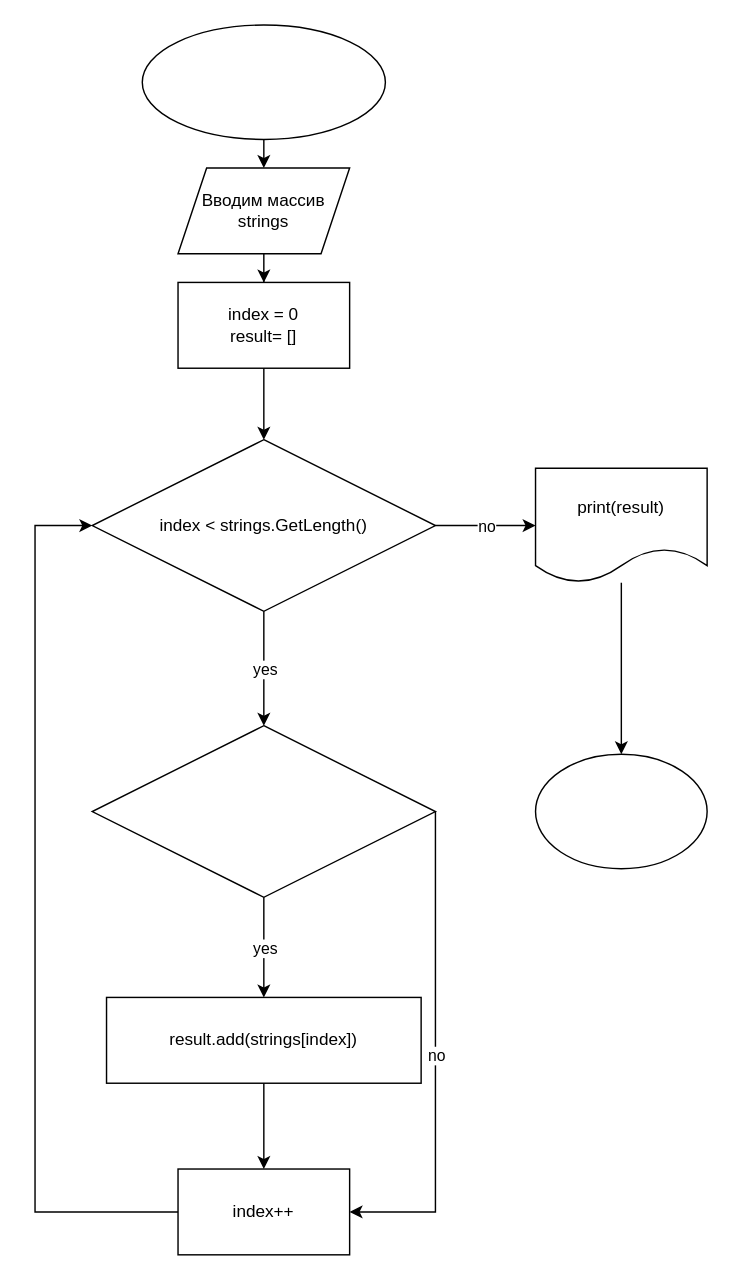
This 732x1280 diagram has some shape labels left out. Each missing label, with the box of its shape:
exite: (534, 753, 707, 869)
start: (141, 24, 385, 139)
strings[index].Length <= 3: (91, 724, 435, 897)
